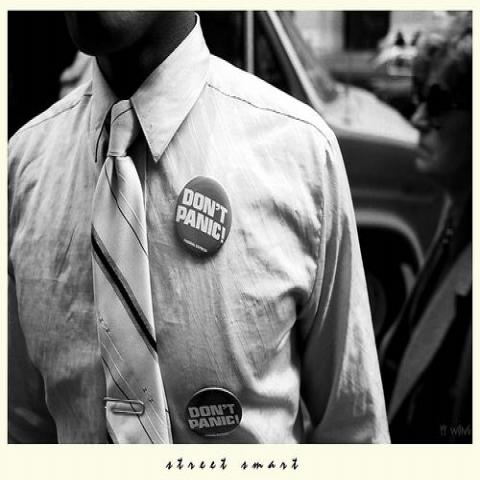car: (318, 44, 420, 118)
truck: (200, 12, 447, 352)
